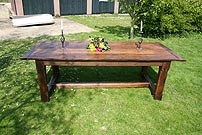obstacle: (22, 41, 184, 101)
